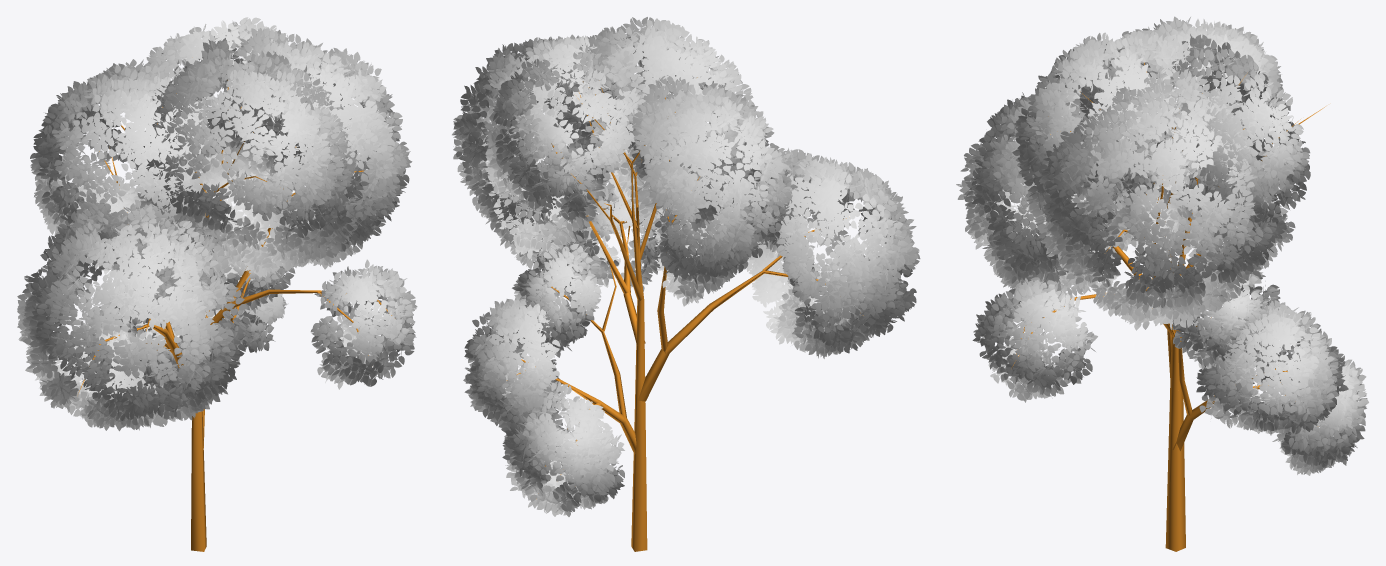
Rendered from Drzewko3_LOD0.fbx.
The picture shows the model from 3 angles, left to right: view 1: azimuth 30°, elevation 25°; view 2: azimuth 150°, elevation 25°; view 3: azimuth 270°, elevation 25°; orthographic projection. The views are drawn at different scales.
Parts seen in each view (by area): view 1: Leaf.001, tree.001; view 2: Leaf.001, tree.001; view 3: Leaf.001, tree.001.
Part boxes in pixels (bbox=[...]): Leaf.001: bbox=[17, 17, 417, 431]; tree.001: bbox=[78, 80, 391, 551]; Leaf.001: bbox=[452, 17, 920, 516]; tree.001: bbox=[506, 77, 863, 551]; Leaf.001: bbox=[956, 16, 1368, 475]; tree.001: bbox=[1012, 62, 1325, 551].
Size of the model in its own units: 1433 by 1660 by 1971.
